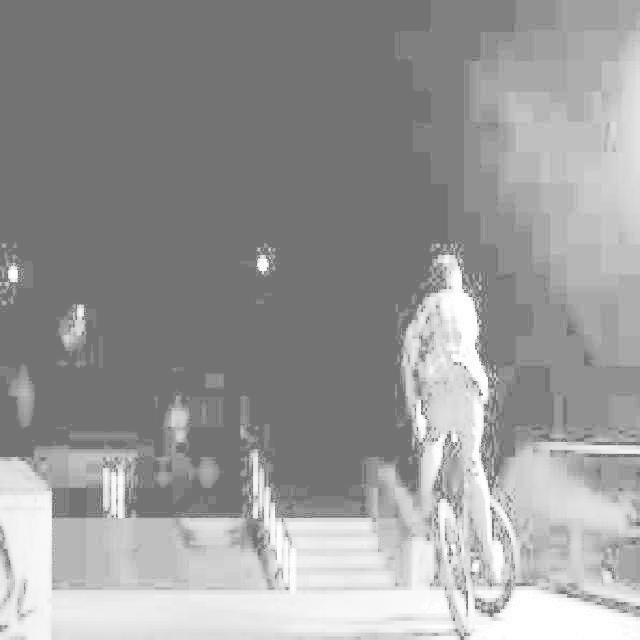Bicycle: (405, 447, 529, 632)
